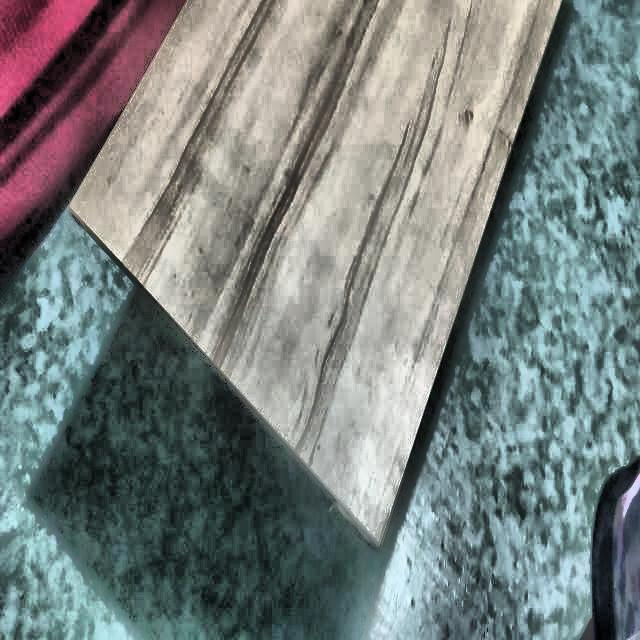mesa: (62, 0, 569, 541)
